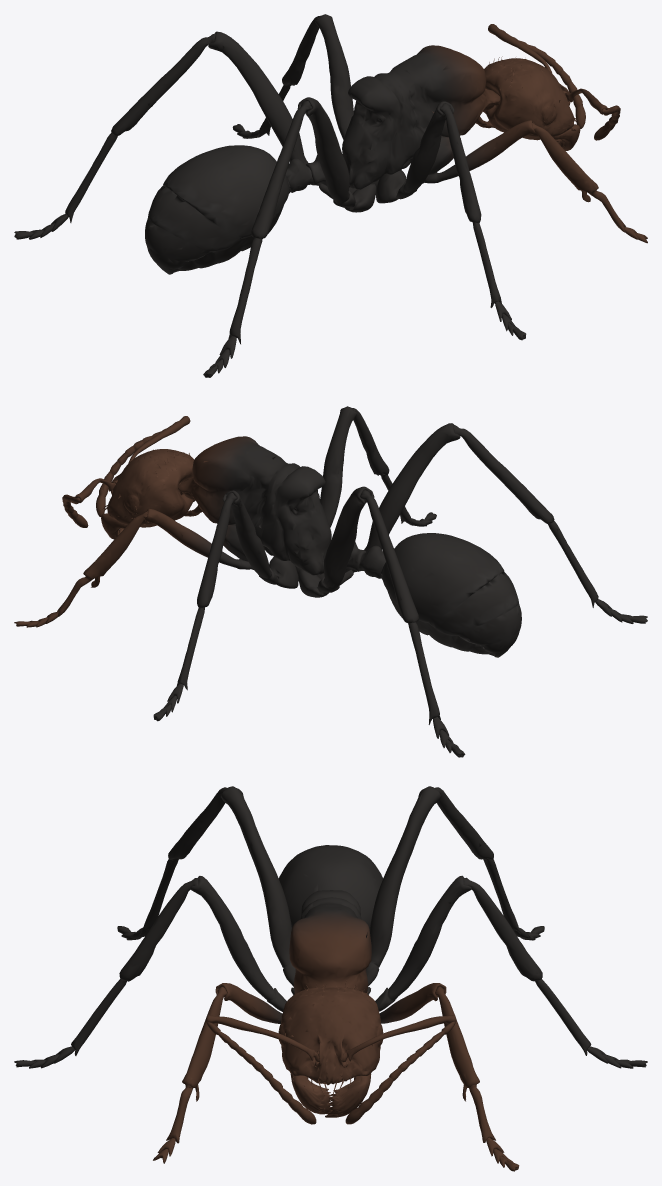
Rendered from messor.glb.
The picture shows the model from 3 angles, top to bottom: view 1: azimuth 30°, elevation 25°; view 2: azimuth 150°, elevation 25°; view 3: azimuth 270°, elevation 25°; orthographic projection. The views are drawn at different scales.
Visible parts, largest first — view 1: messor; view 2: messor; view 3: messor.
Boxes of the visible parts, <box> form: messor: <box>14,14,647,377</box>; messor: <box>14,406,647,757</box>; messor: <box>14,786,647,1171</box>.
Size of the model in its own units: 1.14 by 0.4598 by 1.17.
